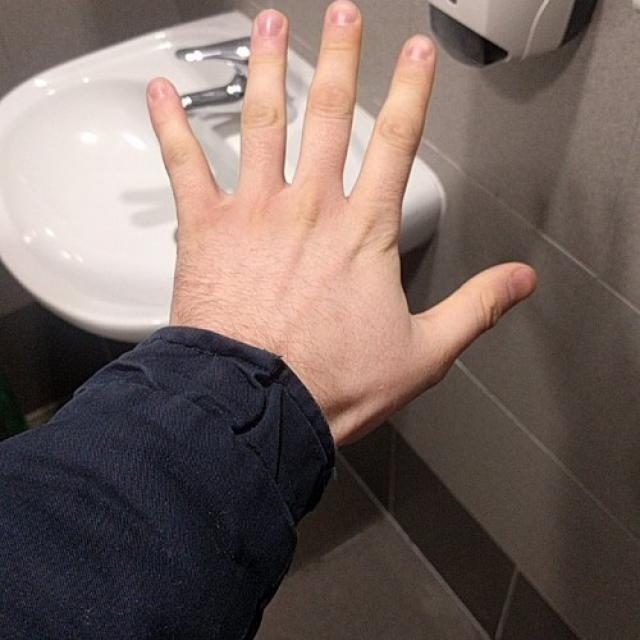paper: (147, 0, 539, 403)
